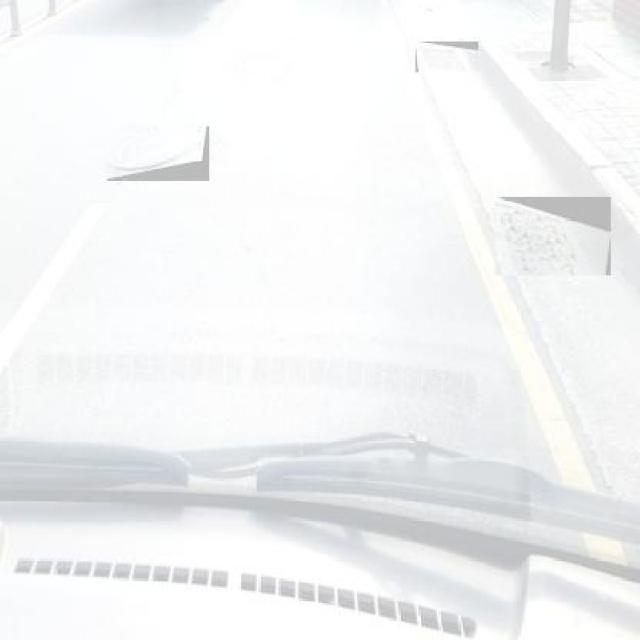Manhole: (495, 197, 611, 276), (107, 126, 210, 180), (416, 42, 478, 72)
